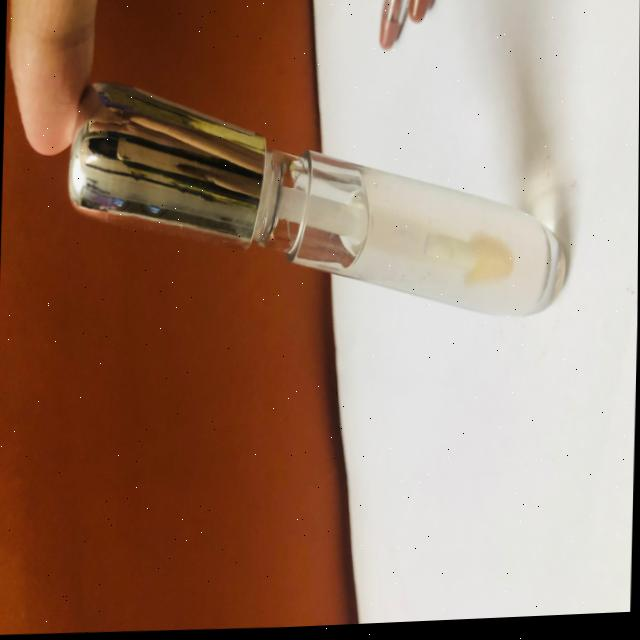lip gloss: (51, 61, 590, 415)
